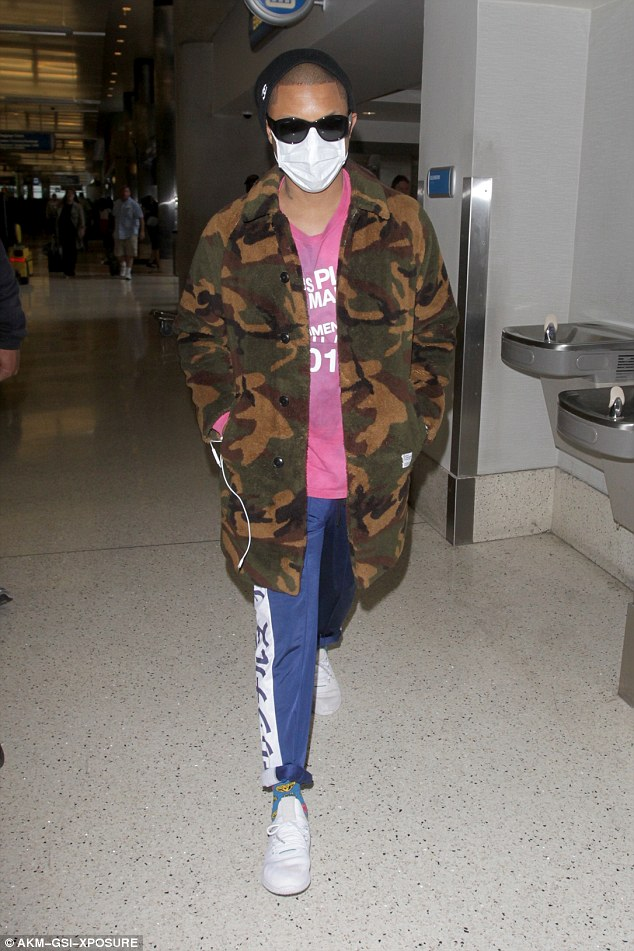mask: (273, 129, 352, 189)
